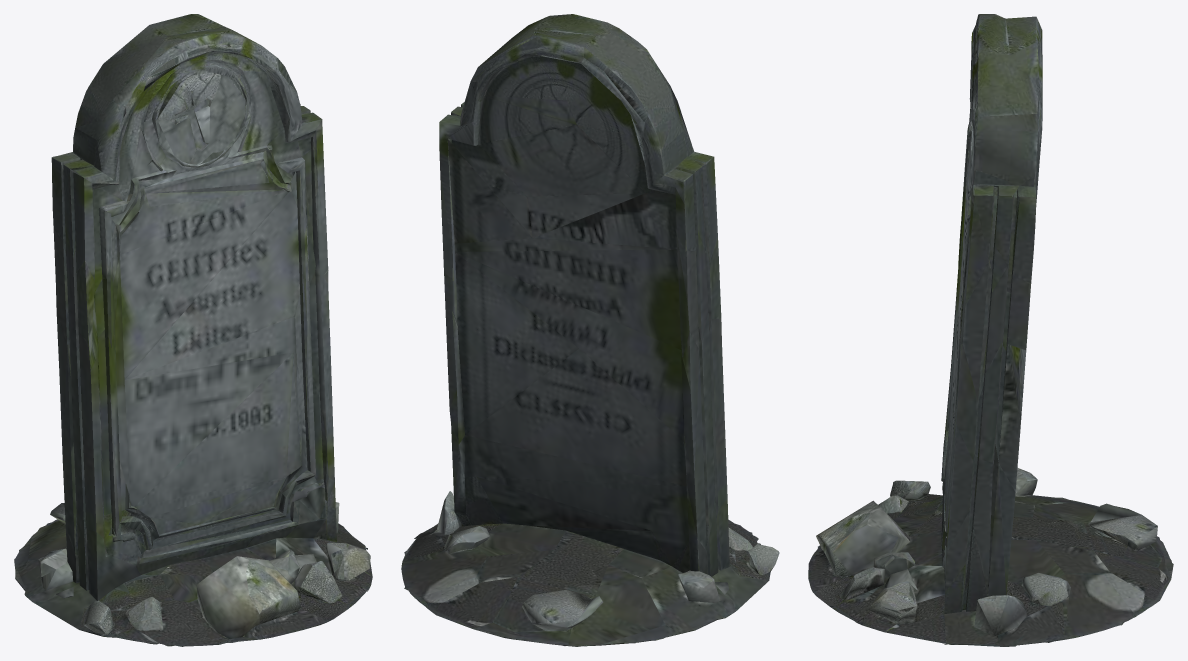
File: decor-grave.glb
3 views of the same model, side by side, from view 1: azimuth 30°, elevation 25°; view 2: azimuth 150°, elevation 25°; view 3: azimuth 270°, elevation 25° (orthographic).
Size of the model in its own units: 1.15 by 1.9 by 1.15.
1 material, 1 textured.
